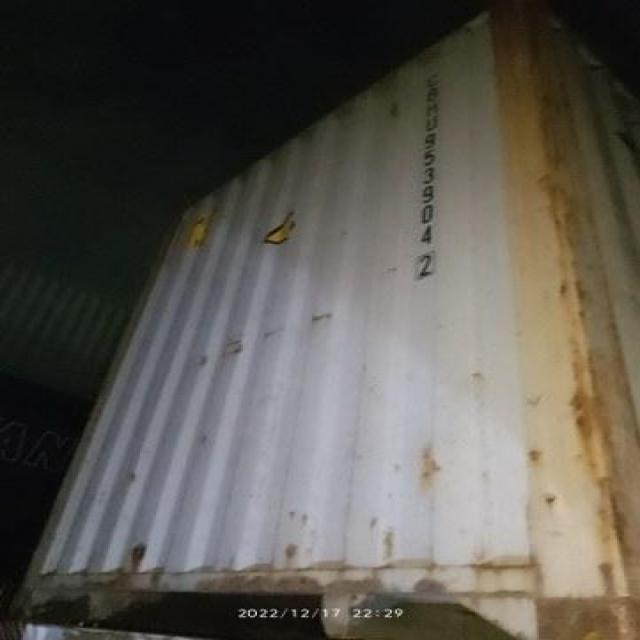container_number: (419, 64, 437, 284)
